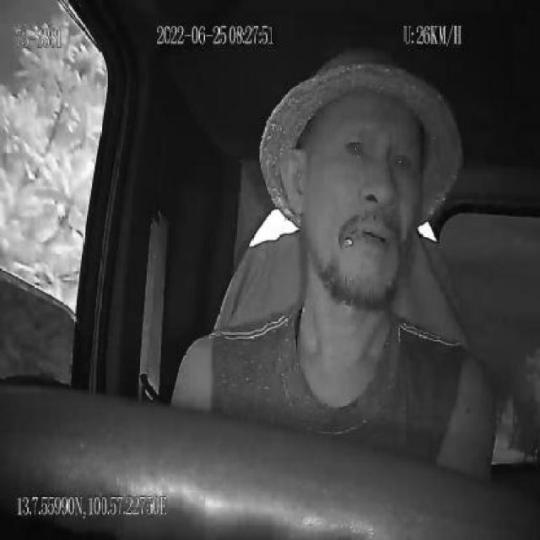smoking: (341, 224, 365, 248)
